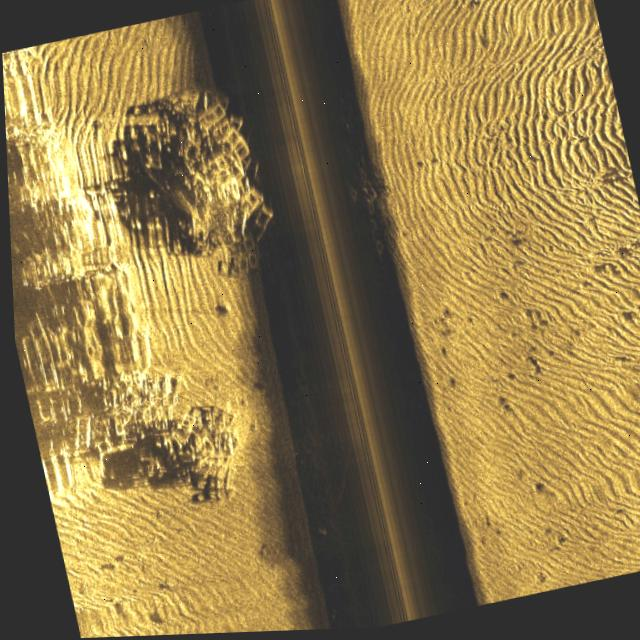artificial reef: (118, 70, 298, 310), (83, 352, 242, 534), (338, 152, 394, 280)
